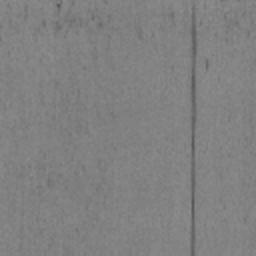Scratches: (190, 6, 197, 256)
